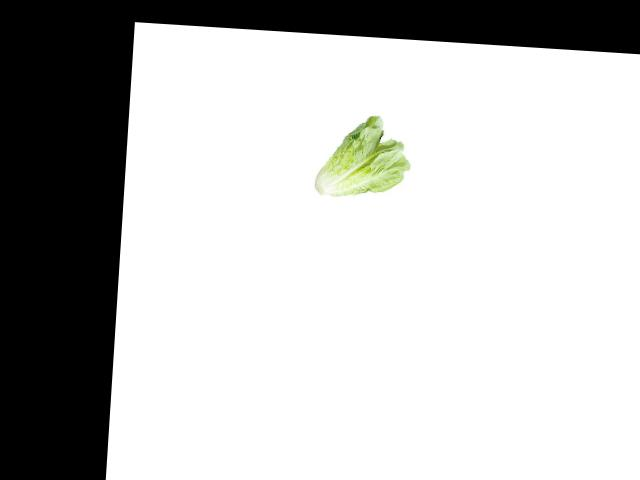lettuce: (308, 108, 413, 208)
